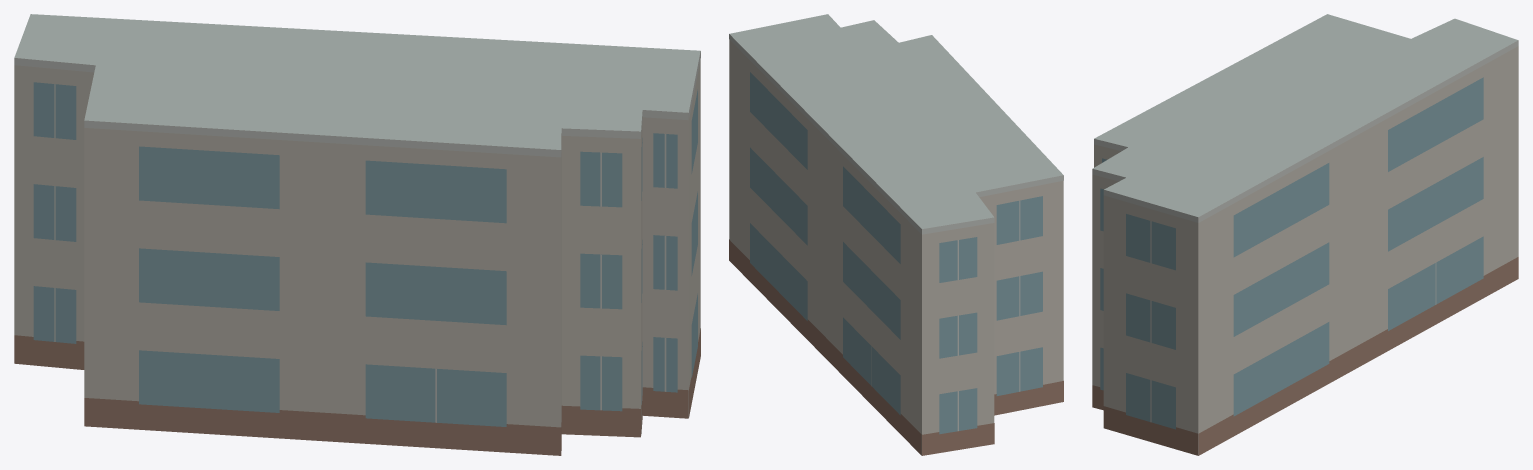
The model's file is survey-upis-32714263.glb.
The picture shows the model from 3 angles, left to right: view 1: azimuth 30°, elevation 25°; view 2: azimuth 150°, elevation 25°; view 3: azimuth 270°, elevation 25°; orthographic projection. The views are drawn at different scales.
Visible parts, largest first — view 1: survey-upis-32714263.tmp; view 2: survey-upis-32714263.tmp; view 3: survey-upis-32714263.tmp.
Boxes of the visible parts, x1,y1,x2,y2 form: survey-upis-32714263.tmp: (14,14,700,455); survey-upis-32714263.tmp: (729,14,1063,455); survey-upis-32714263.tmp: (1092,14,1518,455).
Bounding box in the file's own units: 18.46 × 10.1 × 16.35.
